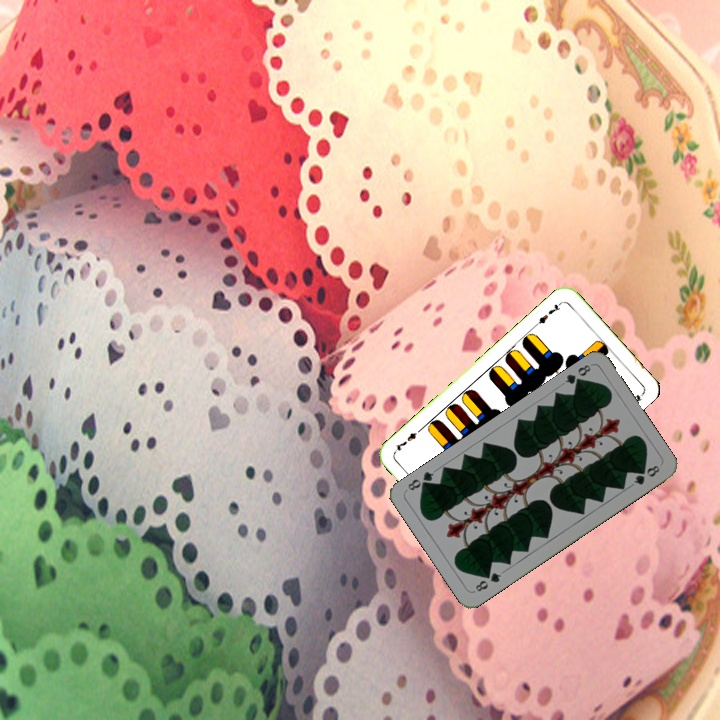E7: (532, 298, 565, 329)
G8: (561, 360, 593, 390), (471, 568, 504, 594)
